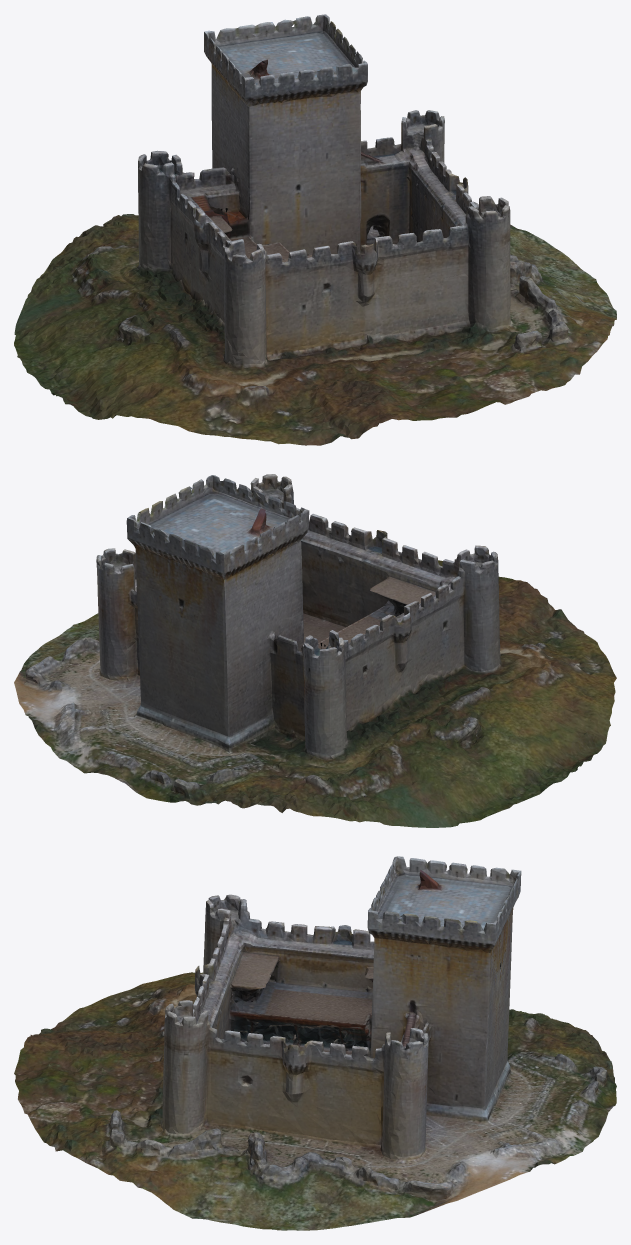
File: es_5dbe4dc7.glb
The picture shows the model from 3 angles, top to bottom: view 1: azimuth 30°, elevation 25°; view 2: azimuth 150°, elevation 25°; view 3: azimuth 270°, elevation 25°; orthographic projection.
Visible parts, largest first — view 1: Object_2, Object_3; view 2: Object_2, Object_3; view 3: Object_2, Object_3.
Boxes of the visible parts, x1,y1,x2,y2 form: Object_2: [14, 14, 616, 445]; Object_3: [15, 16, 616, 443]; Object_2: [14, 474, 616, 827]; Object_3: [14, 478, 612, 826]; Object_2: [14, 856, 616, 1230]; Object_3: [17, 859, 612, 1221].
Size of the model in its own units: 68.64 by 30.26 by 68.03.
1 material, 1 textured.
